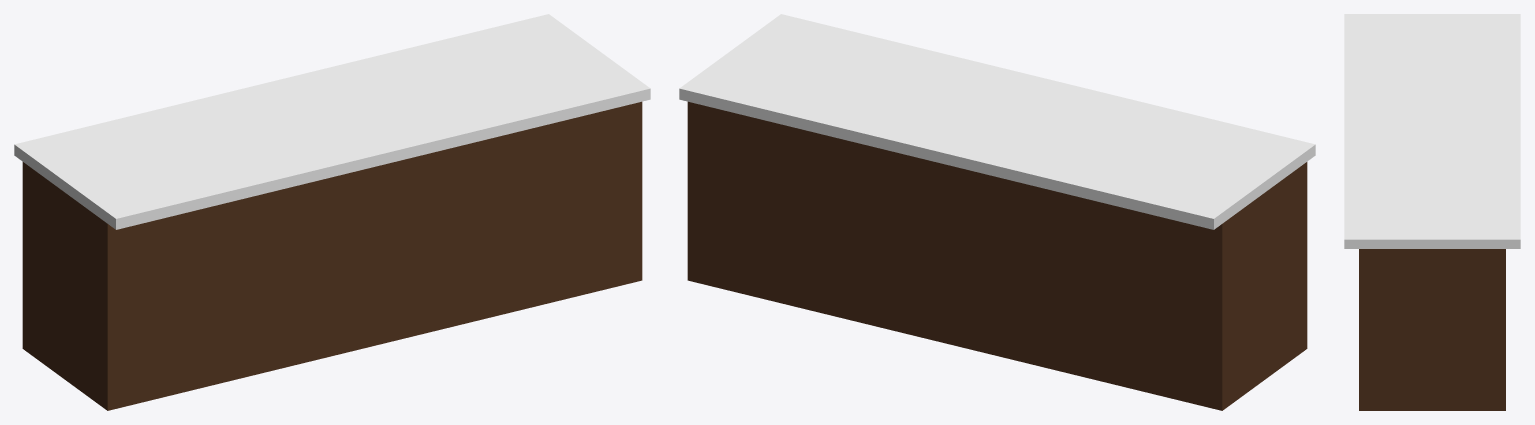
The model's file is barra.glb.
The picture shows the model from 3 angles, left to right: view 1: azimuth 30°, elevation 25°; view 2: azimuth 150°, elevation 25°; view 3: azimuth 270°, elevation 25°; orthographic projection. The views are drawn at different scales.
Parts seen in each view (by area): view 1: barra; view 2: barra; view 3: barra.
Boxes of the visible parts, box(x1,y1,x2,y2) form: barra: box(14, 14, 650, 410); barra: box(679, 14, 1315, 410); barra: box(1344, 14, 1520, 410).
Bounding box in the file's own units: 3.05 × 1.08 × 1.01.
